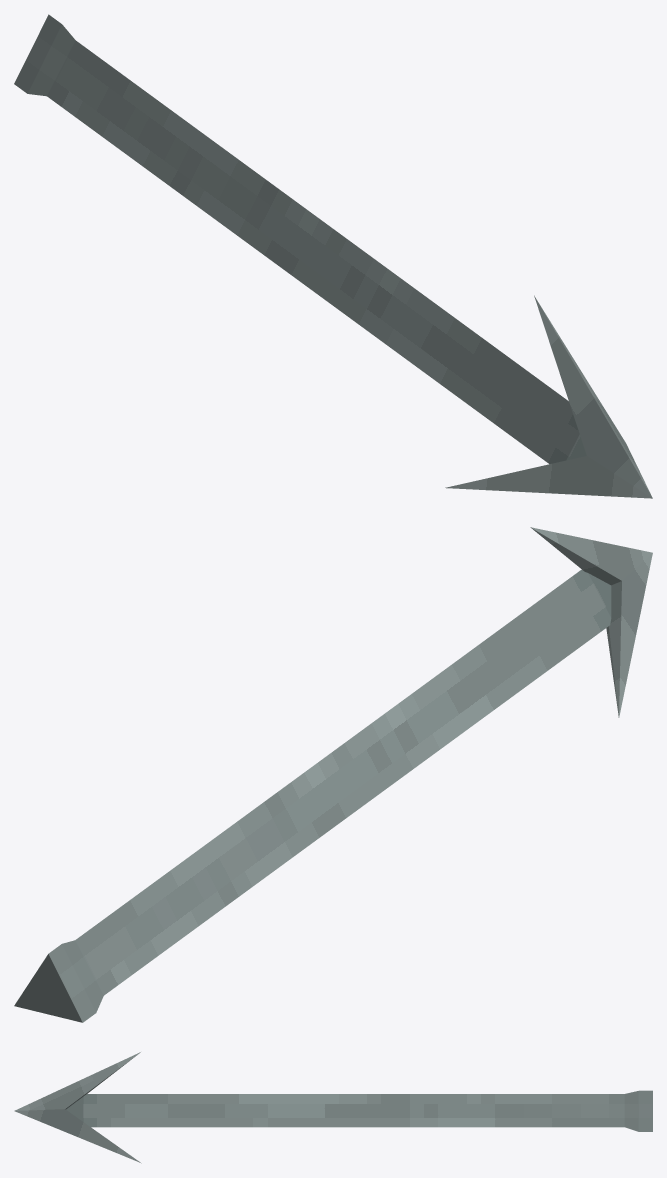
File: Harpoon.fbx
3 renders of one model, top to bottom at view 1: azimuth 30°, elevation 25°; view 2: azimuth 150°, elevation 25°; view 3: azimuth 270°, elevation 25°, orthographic. The views are drawn at different scales.
Visible parts, largest first — view 1: Harpoon; view 2: Harpoon; view 3: Harpoon.
Part boxes in pixels (bbox=[...]): Harpoon: bbox=[14, 14, 652, 498]; Harpoon: bbox=[14, 527, 652, 1022]; Harpoon: bbox=[14, 1052, 652, 1163].
Bounding box in the file's own units: 46.65 × 43.75 × 281.
1 material, 1 textured.
